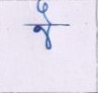ai_matra: (36, 0, 55, 23)
